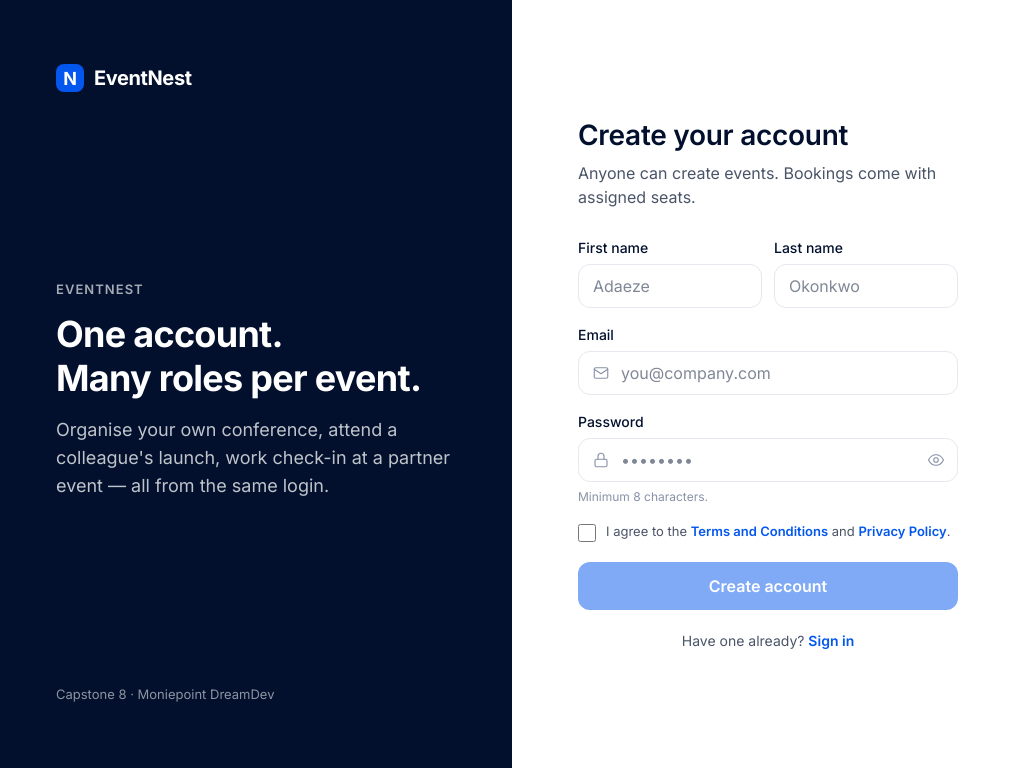
Test: RegisterPage › shows error message on failed registration
Type "Jane" into the field labelled "First name".
click(670, 286); type("Jane")  # box [578,264,762,308]
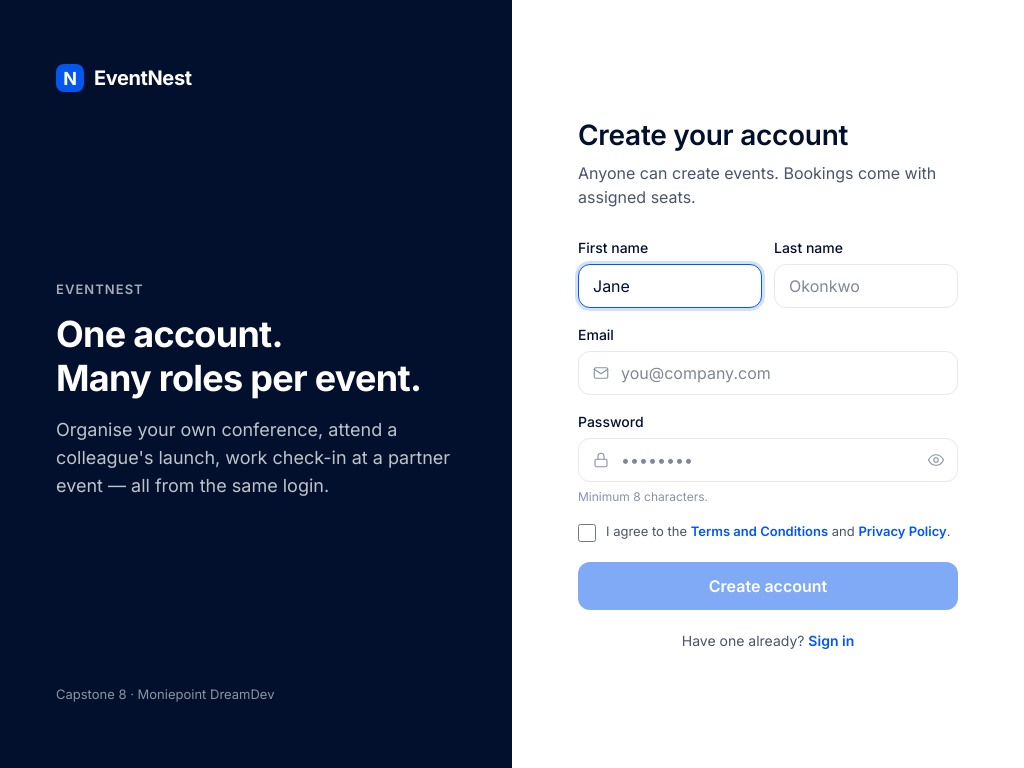
Type "Existing" into the field labelled "Last name".
click(866, 286); type("Existing")  # box [774,264,958,308]
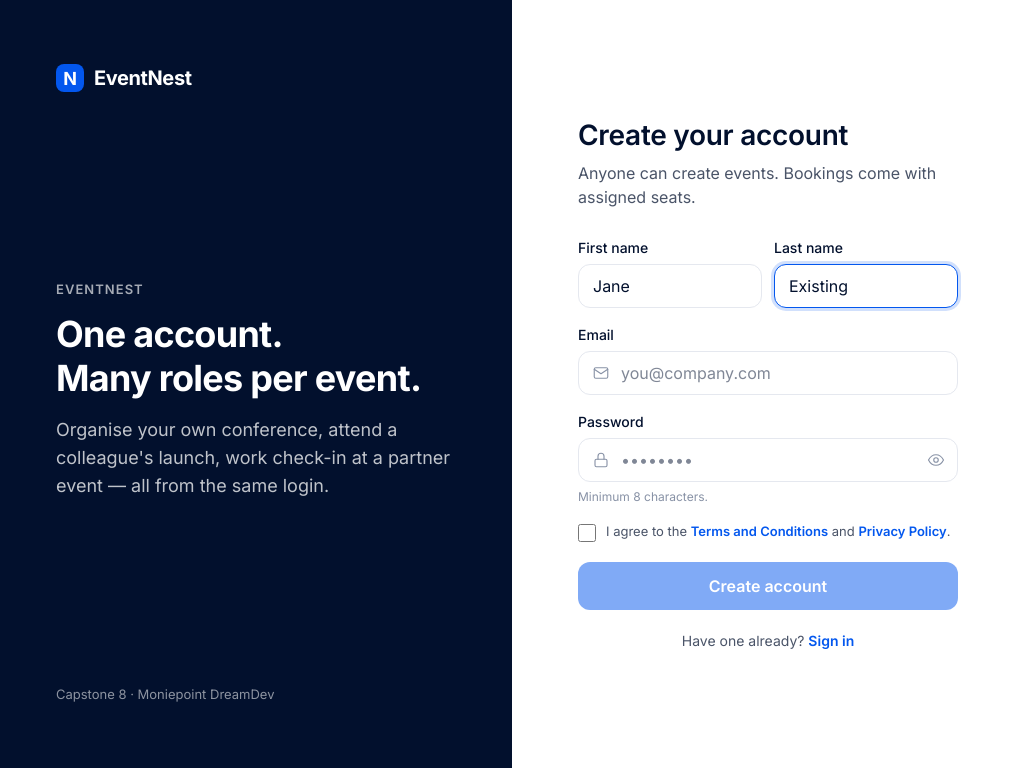
Type "existing@example.com" into the field labelled "Email".
click(768, 373); type("existing@example.com")  # box [578,351,958,395]
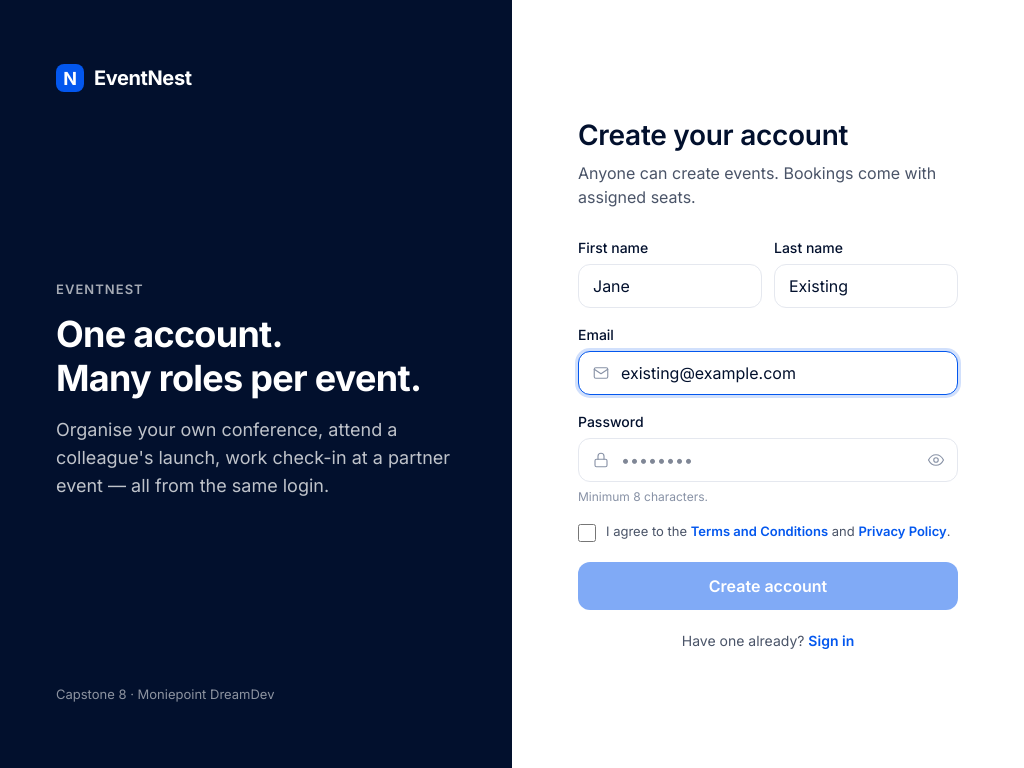
Type "password123" into the password field labelled "Password Minimum 8 characters.".
click(768, 460); type("password123")  # box [578,438,958,482]
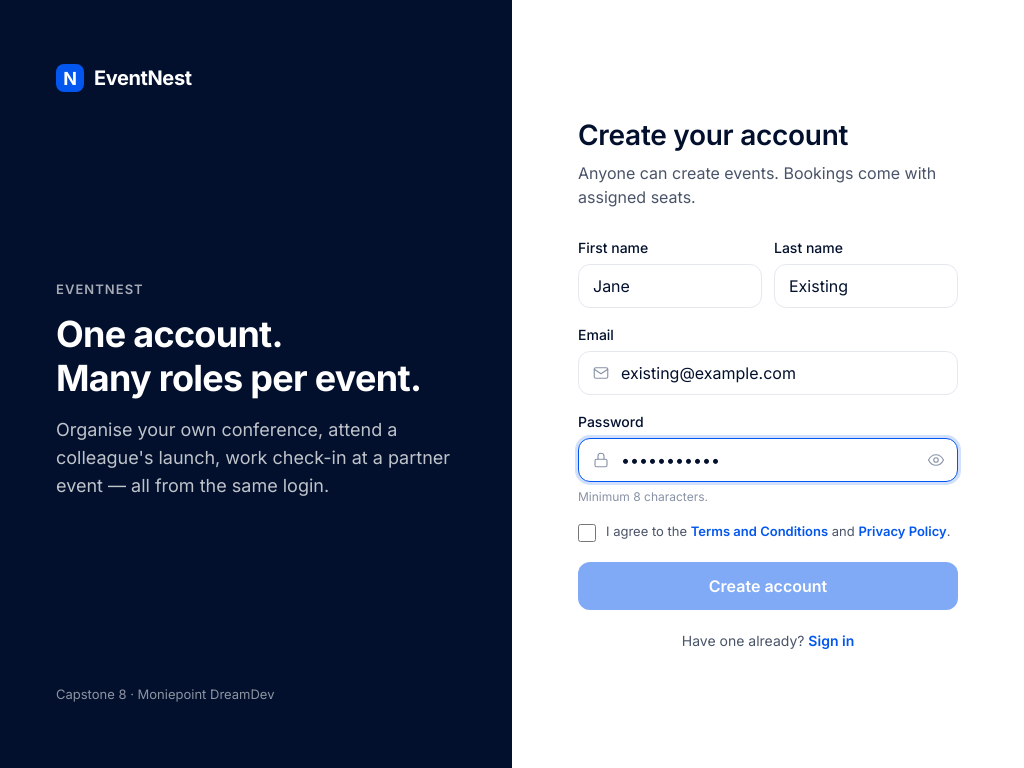
Click the checkbox.
click(587, 533)  # box [578,524,596,542]
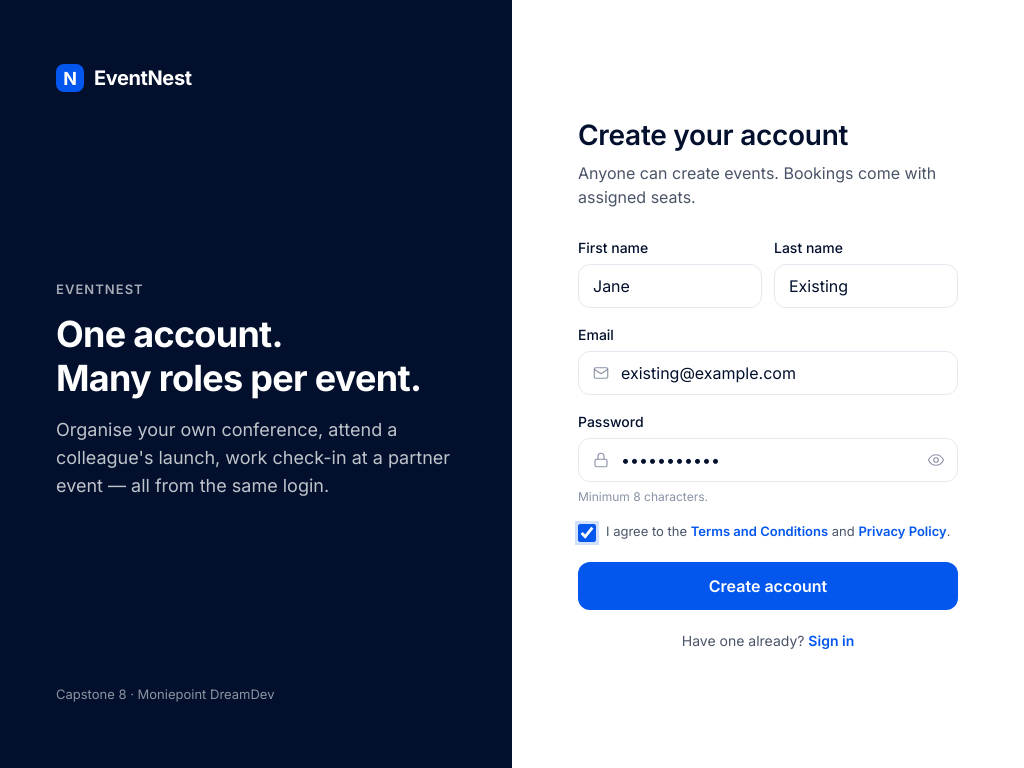
Click the button "Create account".
click(768, 586)  # box [578,562,958,610]
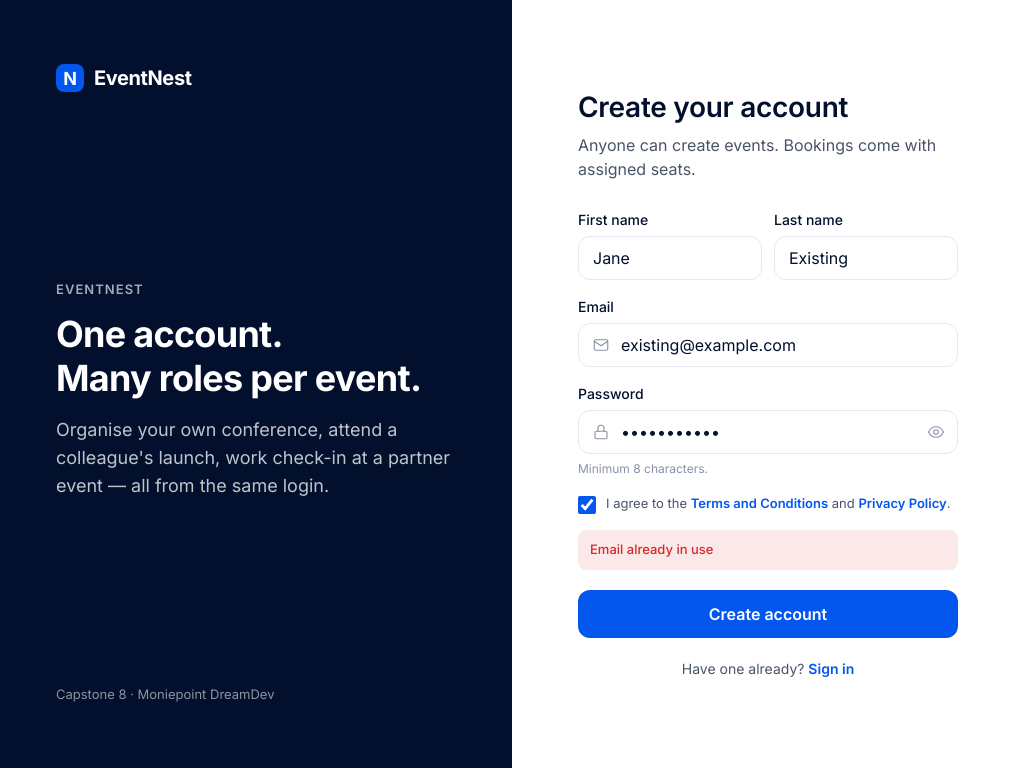
Check: the text "Email already in use" is shown, box [578,530,958,570]
